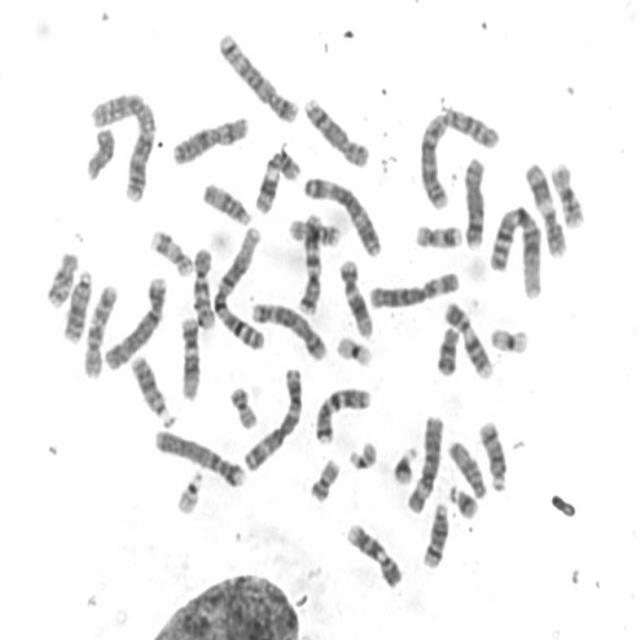A1: (213, 226, 267, 353), (489, 204, 545, 298)
A2: (417, 107, 501, 211), (88, 90, 159, 202)
A3: (300, 176, 384, 258), (242, 366, 303, 474)
B4: (100, 273, 168, 371), (152, 427, 248, 490)
B5: (216, 30, 300, 126), (249, 300, 328, 362)
C10: (81, 283, 118, 379), (190, 248, 218, 331)
C11: (521, 161, 569, 260), (254, 149, 302, 215)
C12: (338, 260, 374, 340), (179, 317, 204, 400)
C6: (405, 412, 445, 514), (368, 270, 459, 311)
C7: (312, 384, 370, 448), (298, 209, 322, 316)
C8: (301, 97, 372, 168), (461, 155, 489, 249)
C9: (442, 301, 494, 380), (344, 524, 404, 590)
D13: (127, 354, 176, 429), (60, 268, 96, 347)
D14: (477, 417, 510, 495), (420, 502, 449, 572)
D15: (447, 440, 489, 500), (200, 182, 253, 228)
E16: (551, 161, 587, 231), (286, 219, 342, 248)
E17: (149, 228, 193, 277), (412, 222, 464, 252)
E18: (46, 248, 79, 310), (436, 327, 460, 378)
F19: (490, 323, 530, 358), (334, 335, 374, 370)
F20: (308, 457, 342, 508), (227, 384, 259, 429)
G21: (446, 482, 480, 522), (391, 445, 420, 487)
G22: (175, 470, 205, 516), (346, 437, 378, 475)
X: (169, 114, 250, 167)
Y: (84, 124, 114, 182)
